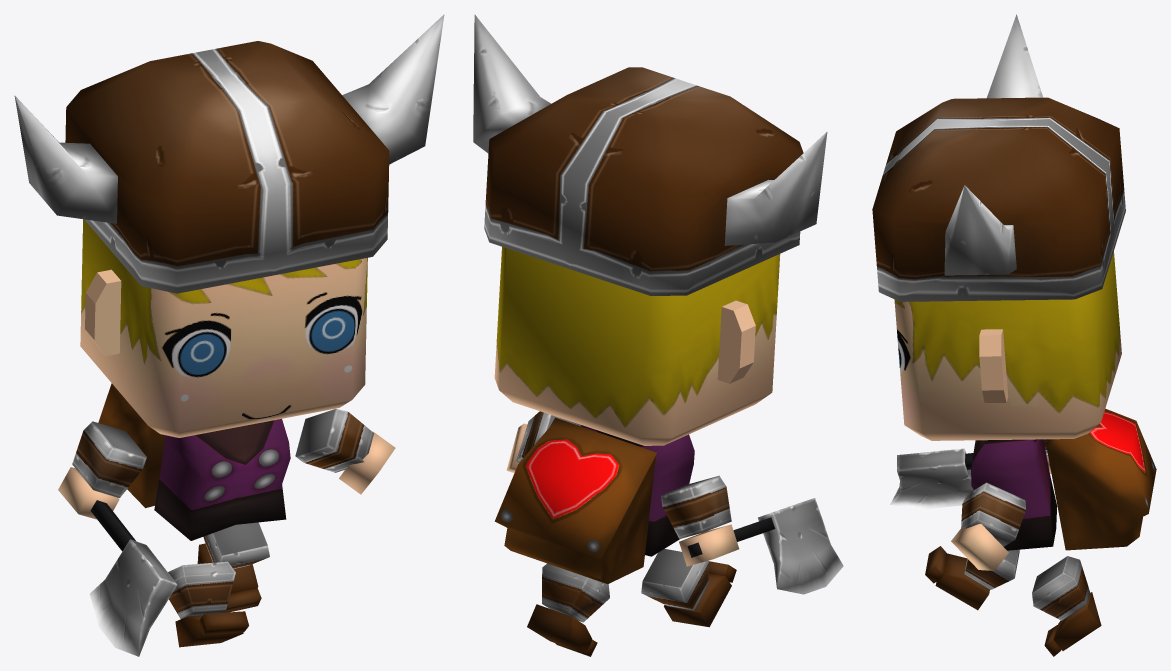
The model's file is mini_knight_fem_000017.obj.
The picture shows the model from 3 angles, left to right: view 1: azimuth 30°, elevation 25°; view 2: azimuth 150°, elevation 25°; view 3: azimuth 270°, elevation 25°; orthographic projection. The views are drawn at different scales.
Parts seen in each view (by area): view 1: cap_Object01, Mesh_objheadusOBJexport, axe_Object02, back_Object03; view 2: cap_Object01, Mesh_objheadusOBJexport, back_Object03, axe_Object02; view 3: cap_Object01, Mesh_objheadusOBJexport, back_Object03, axe_Object02.
Boxes of the visible parts, x1,y1,x2,y2 form: cap_Object01: (14,14,444,293); Mesh_objheadusOBJexport: (58,219,395,647); axe_Object02: (90,500,177,656); back_Object03: (98,383,165,508); cap_Object01: (473,14,827,295); Mesh_objheadusOBJexport: (494,247,780,656); back_Object03: (494,417,656,584); axe_Object02: (687,498,843,594); cap_Object01: (872,14,1125,301); Mesh_objheadusOBJexport: (894,251,1121,656); back_Object03: (1046,408,1156,550); axe_Object02: (890,448,973,508).
Size of the model in its own units: 1.83 by 2.6 by 1.26.
